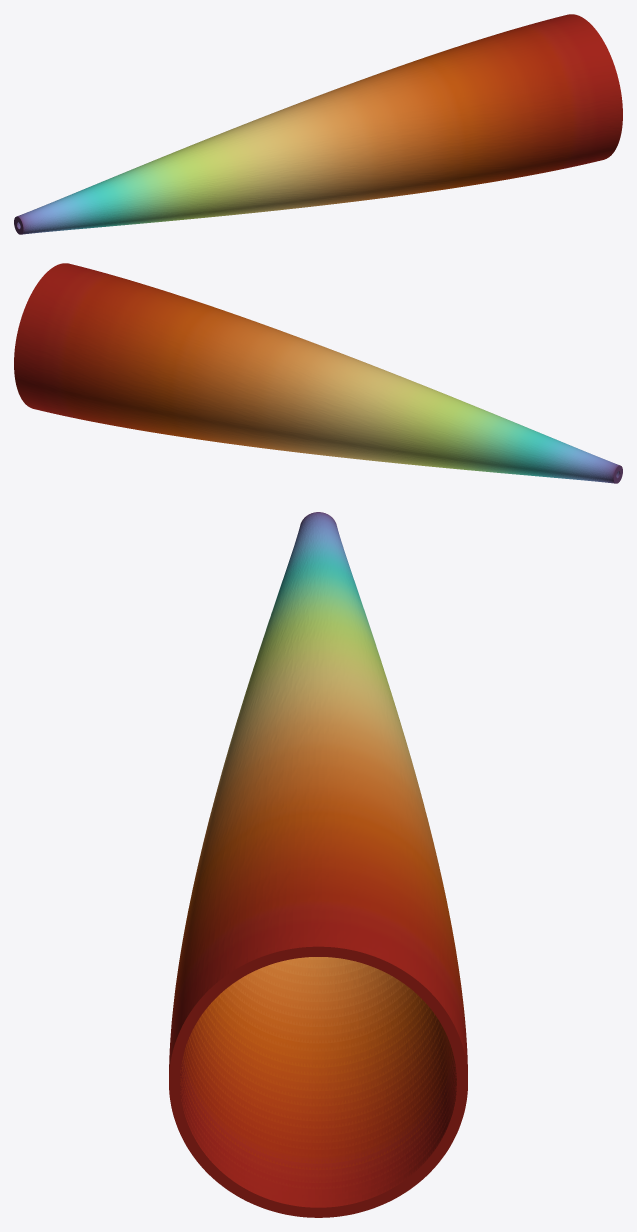
Rendered from final_opt.glb.
The picture shows the model from 3 angles, top to bottom: view 1: azimuth 30°, elevation 25°; view 2: azimuth 150°, elevation 25°; view 3: azimuth 270°, elevation 25°; orthographic projection. The views are drawn at different scales.
Parts seen in each view (by area): view 1: geometry_0; view 2: geometry_0; view 3: geometry_0.
Boxes of the visible parts, x1,y1,x2,y2 form: geometry_0: (14,14,622,234); geometry_0: (14,263,622,483); geometry_0: (169,512,467,1217).
Size of the model in its own units: 0.07 by 0.016 by 0.016.
